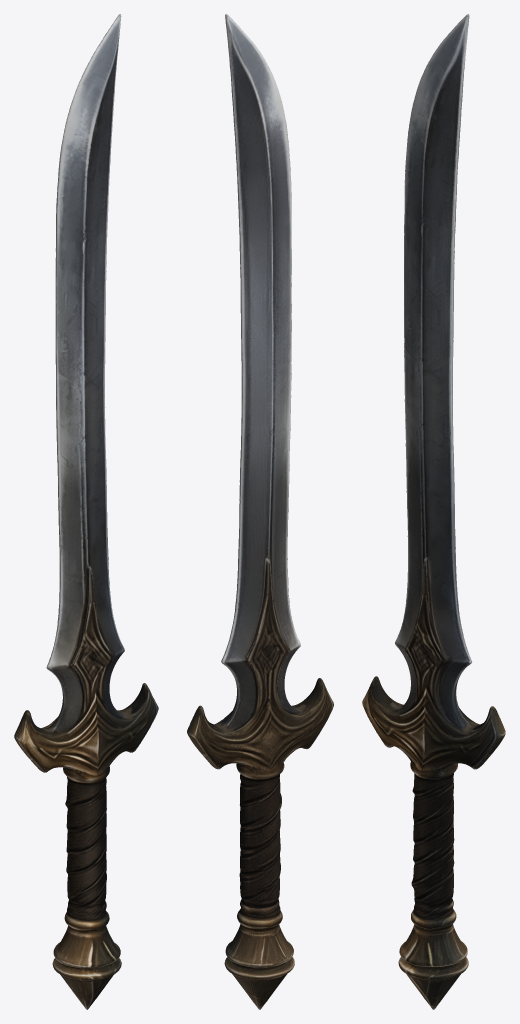
3 views of the same model, side by side, from view 1: azimuth 30°, elevation 25°; view 2: azimuth 210°, elevation 25°; view 3: azimuth 330°, elevation 25° (orthographic).
Parts seen in each view (by area): view 1: Mesh_0; view 2: Mesh_0; view 3: Mesh_0.
Part boxes in pixels (x1,y1,x2,y2): Mesh_0: (14, 14, 158, 1009); Mesh_0: (187, 14, 333, 1009); Mesh_0: (362, 14, 505, 1009).
Bounding box in the file's own units: 27.93 × 190 × 11.98.
Materials: 1 (1 with a texture image).
